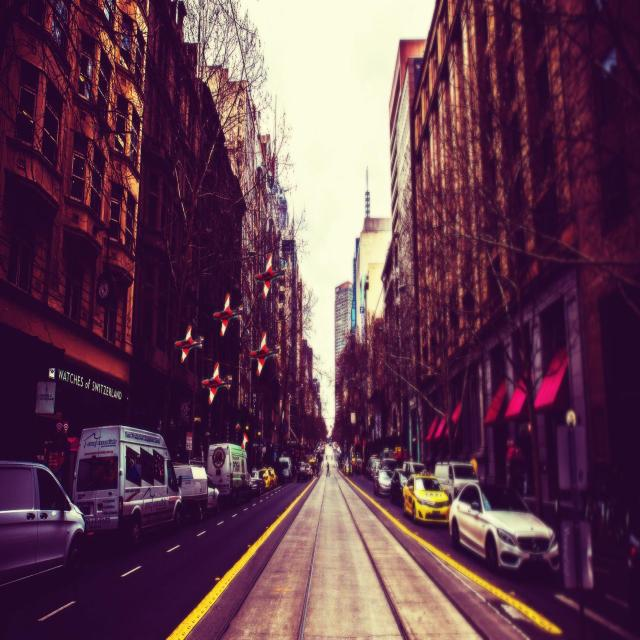airplane: (250, 330, 282, 376), (212, 292, 244, 336), (200, 360, 232, 402), (256, 252, 285, 296), (174, 327, 204, 363)
